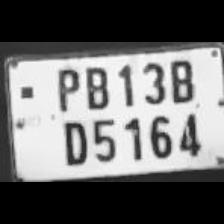1: (119, 113, 144, 162), (113, 60, 138, 108)
3: (138, 57, 166, 105)
4: (174, 108, 202, 156)
5: (88, 115, 118, 163)
6: (144, 110, 174, 158)
B: (80, 62, 111, 110), (165, 55, 195, 104)
D: (58, 116, 88, 166)
P: (50, 63, 82, 111)
